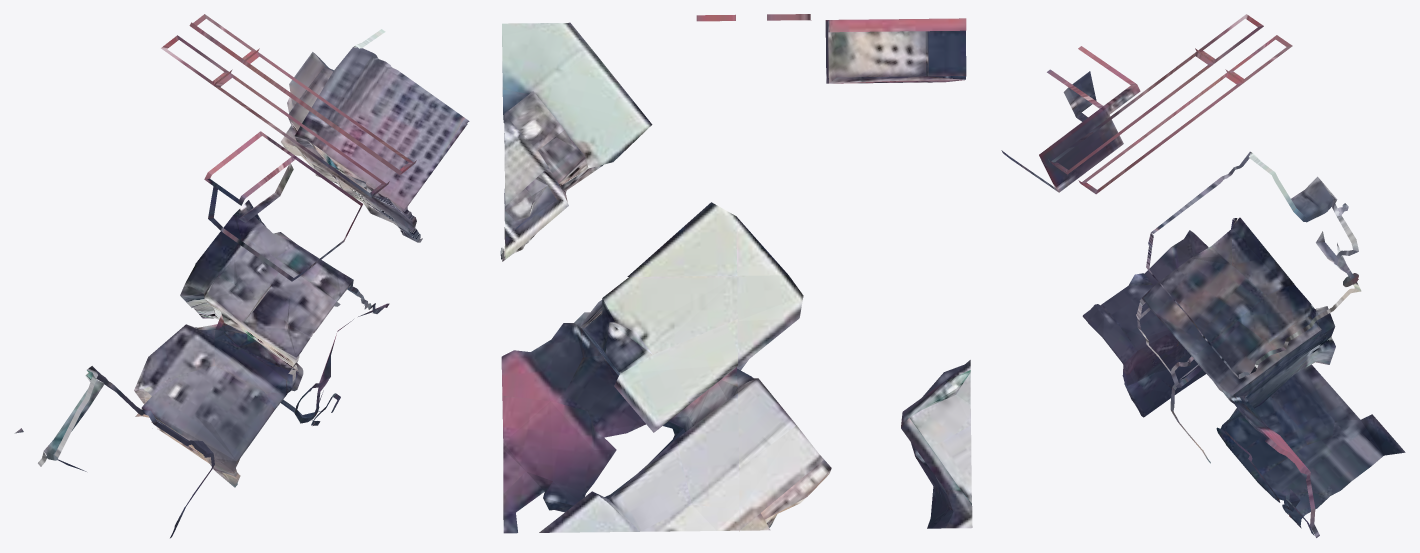
3 views of the same model, side by side, from view 1: azimuth 30°, elevation 25°; view 2: azimuth 150°, elevation 25°; view 3: azimuth 270°, elevation 25° (orthographic). The views are drawn at different scales.
Size of the model in its own units: 41.56 by 45.63 by 38.8.
Materials: 2 (2 with a texture image).
